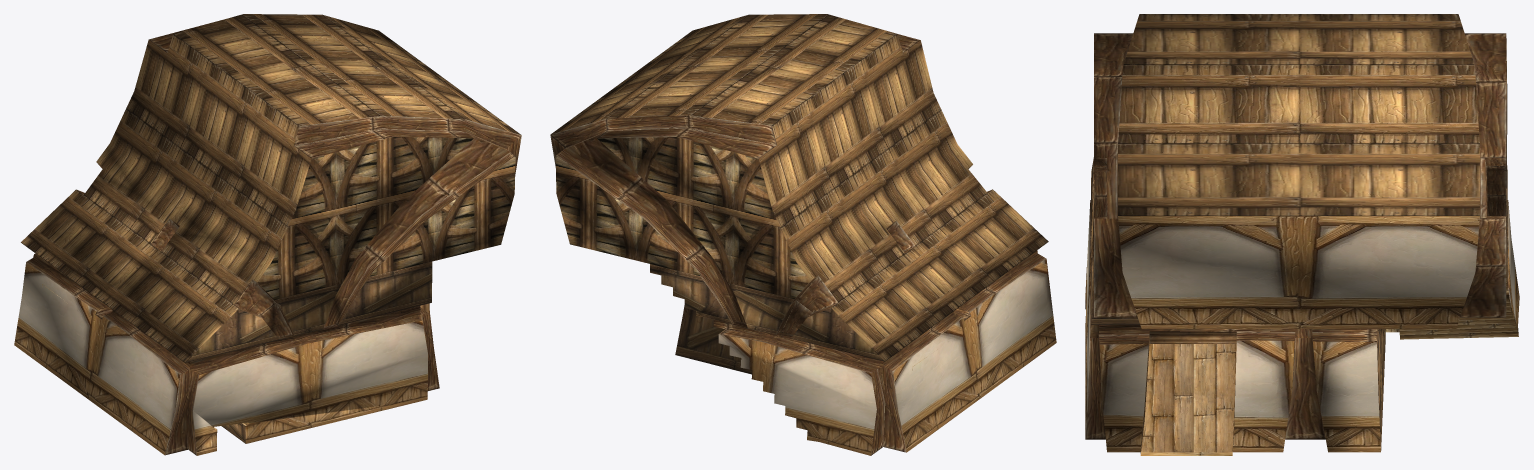
Rendered from stormwind_071.fbx.
The picture shows the model from 3 angles, left to right: view 1: azimuth 30°, elevation 25°; view 2: azimuth 150°, elevation 25°; view 3: azimuth 270°, elevation 25°; orthographic projection. The views are drawn at different scales.
Parts seen in each view (by area): view 1: stormwind_071_55, stormwind_071_48, stormwind_071_49, stormwind_071_53, stormwind_071_56; view 2: stormwind_071_55, stormwind_071_48, stormwind_071_49, stormwind_071_53, stormwind_071_56; view 3: stormwind_071_55, stormwind_071_48, stormwind_071_53, stormwind_071_51, stormwind_071_56, stormwind_071_49.
Part boxes in pixels (bbox=[...]): stormwind_071_55: bbox=[21, 14, 520, 362]; stormwind_071_48: bbox=[14, 262, 427, 455]; stormwind_071_49: bbox=[257, 137, 515, 313]; stormwind_071_53: bbox=[26, 20, 521, 455]; stormwind_071_56: bbox=[185, 261, 432, 443]; stormwind_071_55: bbox=[551, 14, 1048, 361]; stormwind_071_48: bbox=[696, 259, 1056, 455]; stormwind_071_49: bbox=[555, 137, 810, 298]; stormwind_071_53: bbox=[550, 34, 1046, 455]; stormwind_071_56: bbox=[650, 264, 884, 374]; stormwind_071_55: bbox=[1118, 14, 1479, 215]; stormwind_071_48: bbox=[1085, 202, 1519, 452]; stormwind_071_53: bbox=[1085, 33, 1518, 455]; stormwind_071_51: bbox=[1141, 344, 1236, 452]; stormwind_071_56: bbox=[1085, 157, 1507, 450]; stormwind_071_49: bbox=[1094, 38, 1507, 453].
Size of the model in its own units: 18.05 by 13.59 by 14.85.
